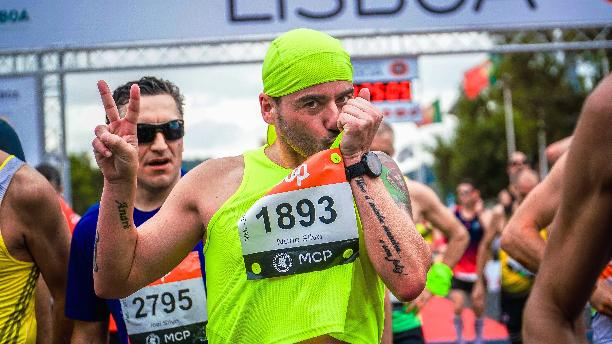Scissors: (89, 78, 142, 181)
